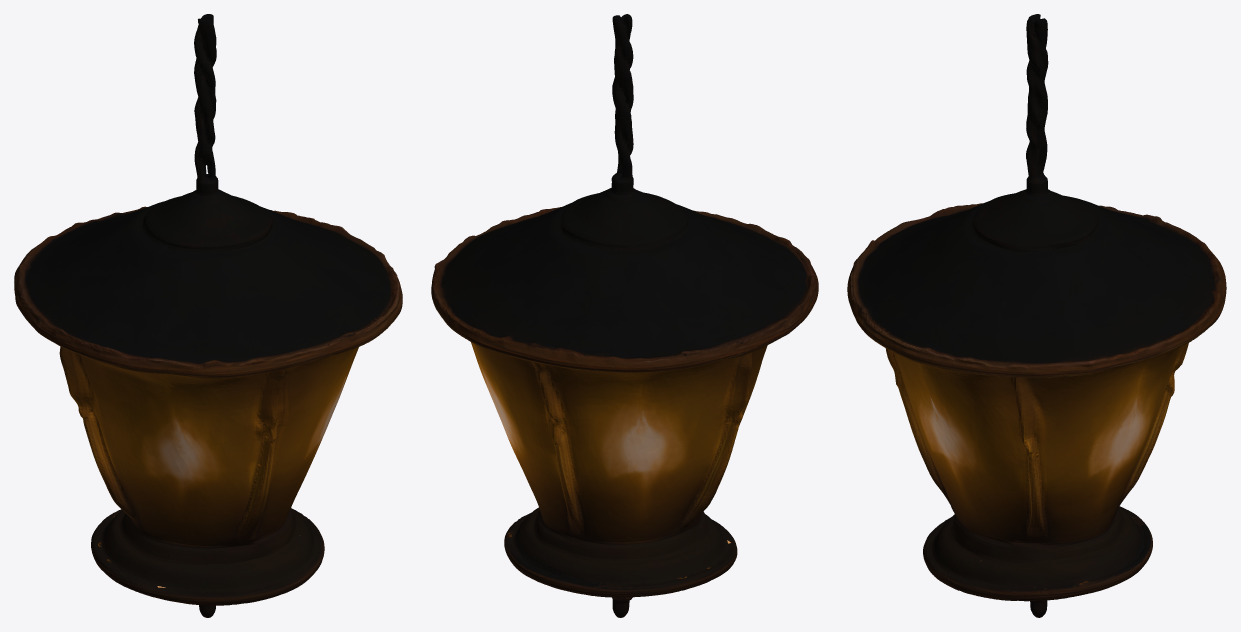
The model's file is lantern.glb.
3 views of the same model, side by side, from view 1: azimuth 30°, elevation 25°; view 2: azimuth 150°, elevation 25°; view 3: azimuth 270°, elevation 25° (orthographic).
Parts seen in each view (by area): view 1: textured_mesh.obj; view 2: textured_mesh.obj; view 3: textured_mesh.obj.
Boxes of the visible parts, <box> form: textured_mesh.obj: <box>14,14,402,617</box>; textured_mesh.obj: <box>431,14,818,617</box>; textured_mesh.obj: <box>847,14,1226,617</box>.
Size of the model in its own units: 1.16 by 1.99 by 1.14.
1 material, 1 textured.
